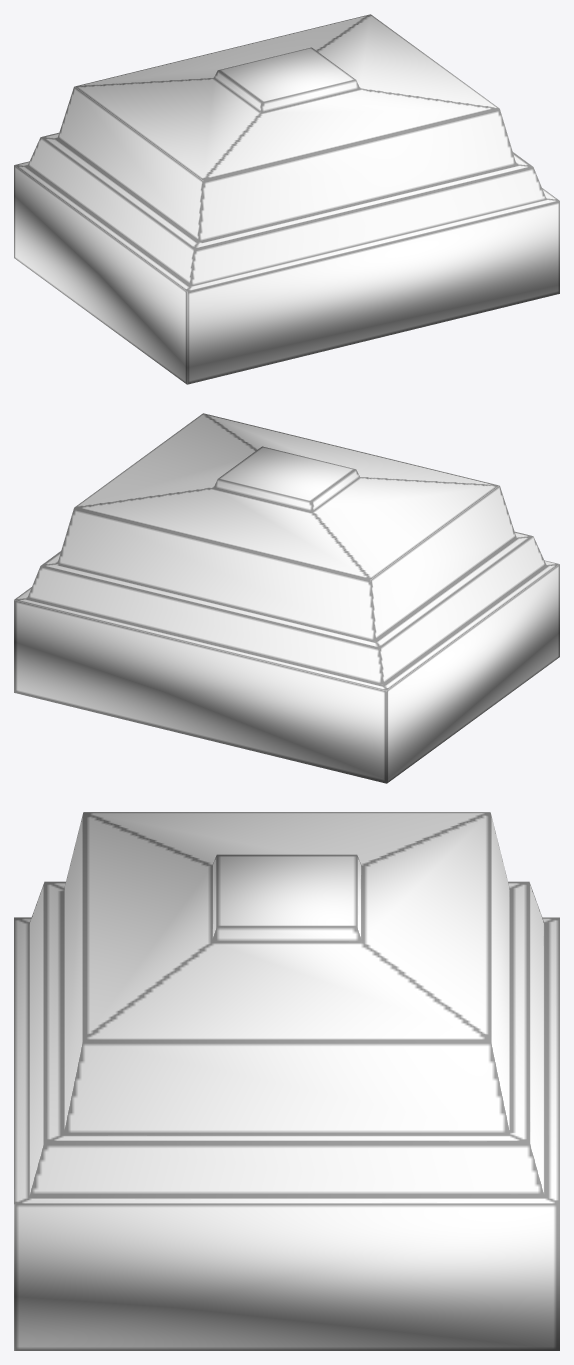
File: flatbuilding02.obj
The picture shows the model from 3 angles, top to bottom: view 1: azimuth 30°, elevation 25°; view 2: azimuth 150°, elevation 25°; view 3: azimuth 270°, elevation 25°; orthographic projection. The views are drawn at different scales.
Parts seen in each view (by area): view 1: cube2_copy5; view 2: cube2_copy5; view 3: cube2_copy5.
Part boxes in pixels (x1=…): cube2_copy5: x1=14, y1=14, x2=559, y2=384; cube2_copy5: x1=14, y1=413, x2=559, y2=783; cube2_copy5: x1=14, y1=812, x2=559, y2=1350.
Bounding box in the file's own units: 1.13 × 0.5834 × 0.912.
1 material, 1 textured.
